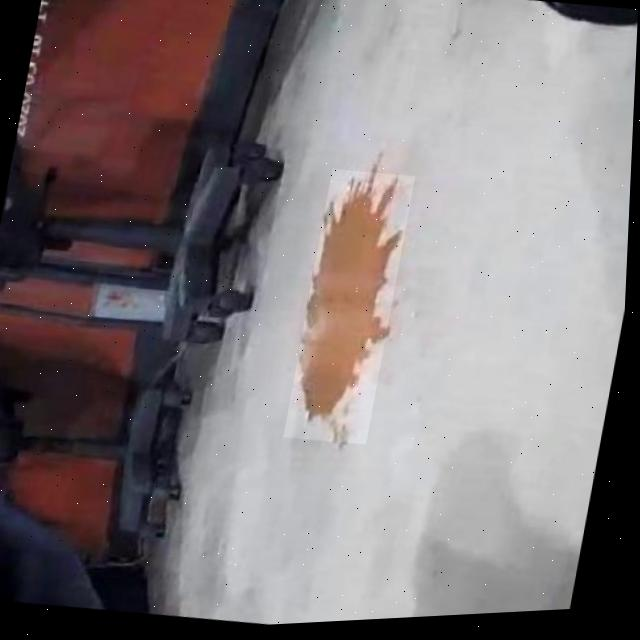spillage: (304, 176, 406, 445)
